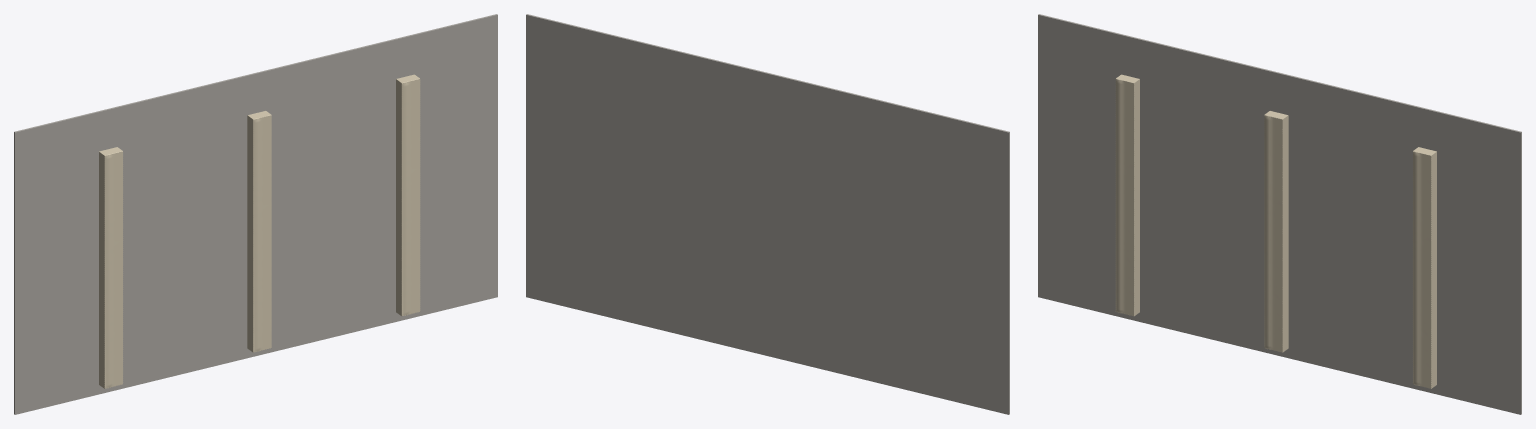
File: terilgan.glb
3 renders of one model, left to right at view 1: azimuth 30°, elevation 25°; view 2: azimuth 150°, elevation 25°; view 3: azimuth 330°, elevation 25°, orthographic.
Visible parts, largest first — view 1: Devor, t1, t2, t0; view 2: Devor; view 3: Devor, t1, t0, t2.
Boxes of the visible parts, x1,y1,x2,y2 form: Devor: (14,14,497,414); t1: (247,111,271,352); t2: (396,74,420,316); t0: (99,147,123,388); Devor: (526,14,1009,414); Devor: (1038,14,1521,414); t1: (1264,111,1288,352); t0: (1115,74,1139,316); t2: (1412,147,1436,388).
Bounding box in the file's own units: 2.6 × 1.45 × 0.0705.
